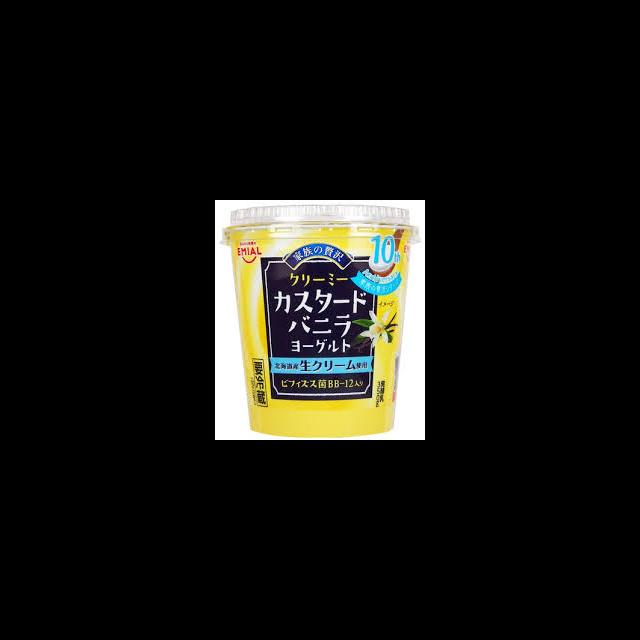plastic: (218, 205, 419, 435), (219, 204, 419, 246)
